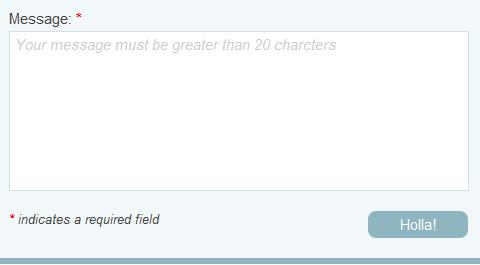button: (366, 209, 469, 240)
field: (8, 29, 471, 194)
field_with_label: (3, 9, 476, 197)
